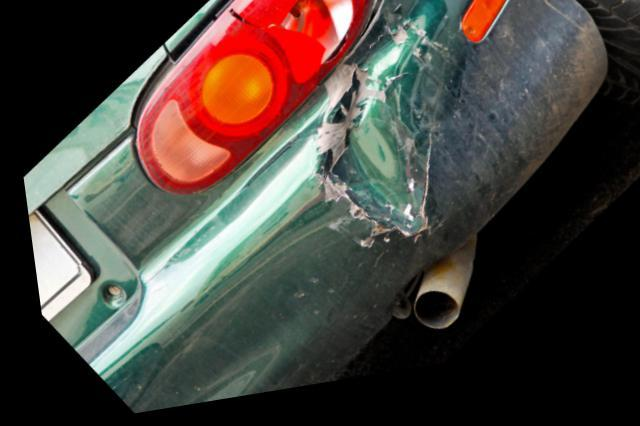crack: (413, 146, 427, 233)
dent: (313, 12, 435, 244)
lamp broken: (129, 0, 375, 200)
